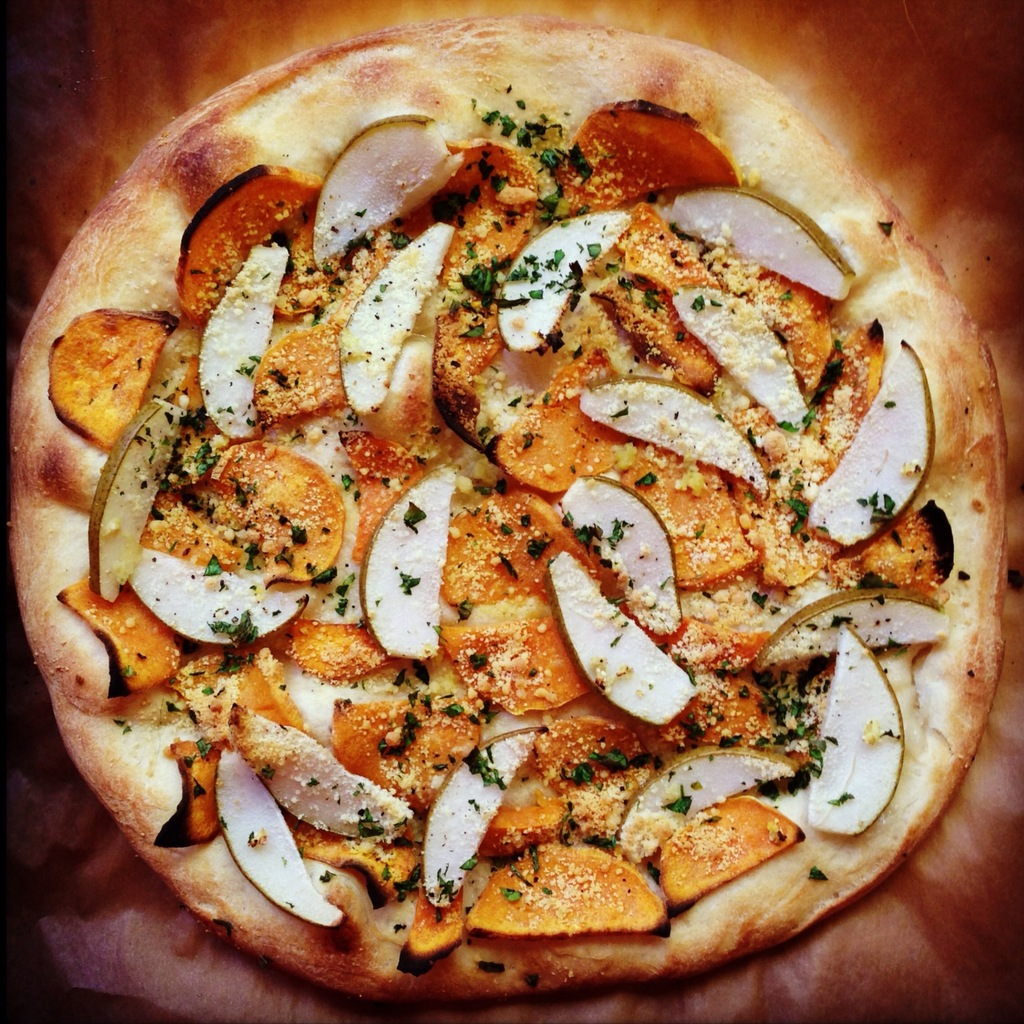Pizza: (0, 8, 1001, 1024)
